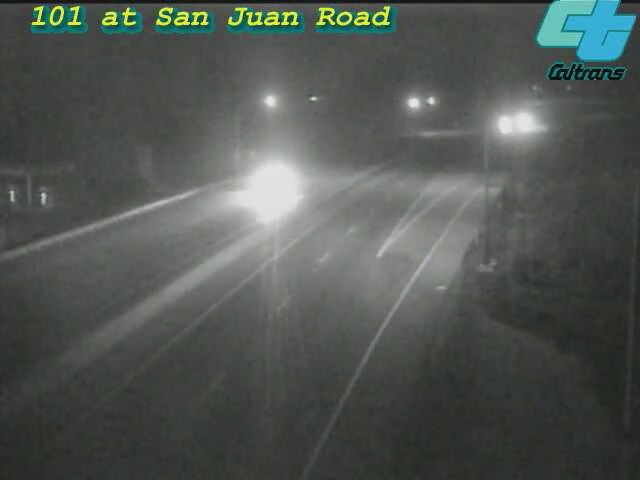vehicle: (229, 142, 309, 222), (509, 105, 559, 155), (476, 102, 526, 152), (500, 97, 550, 147)
